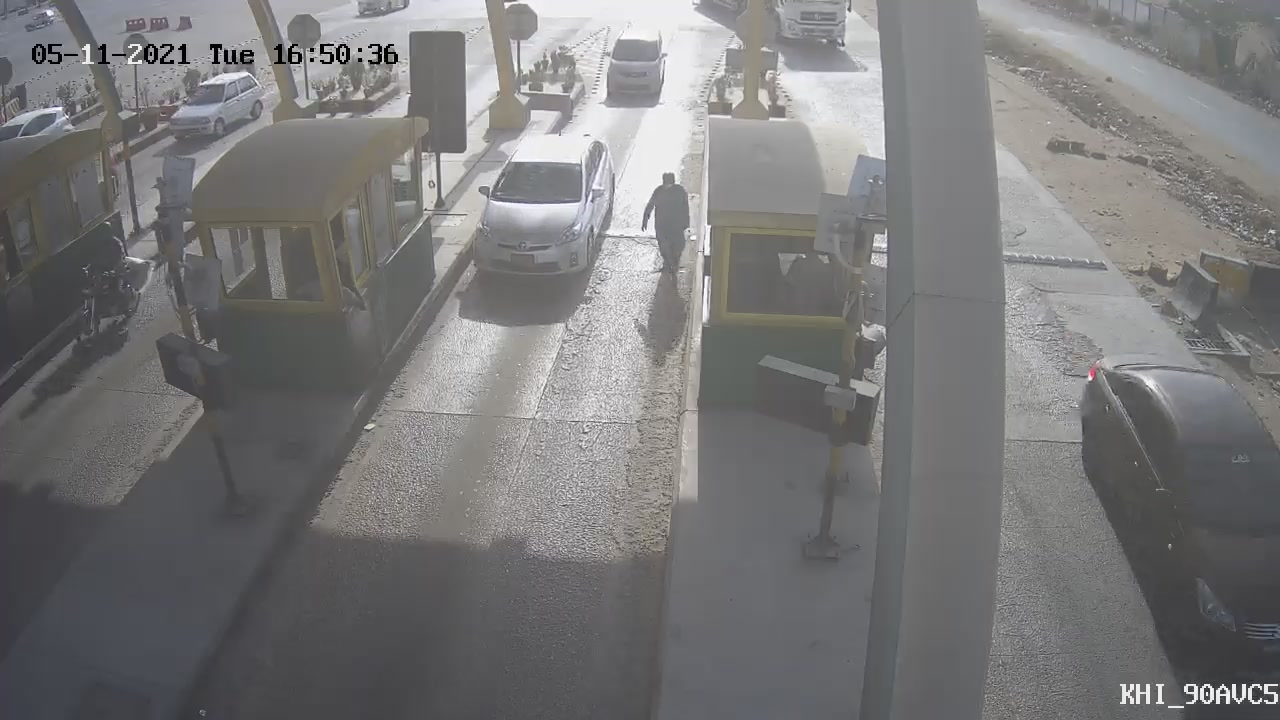F1: (453, 117, 629, 305)
